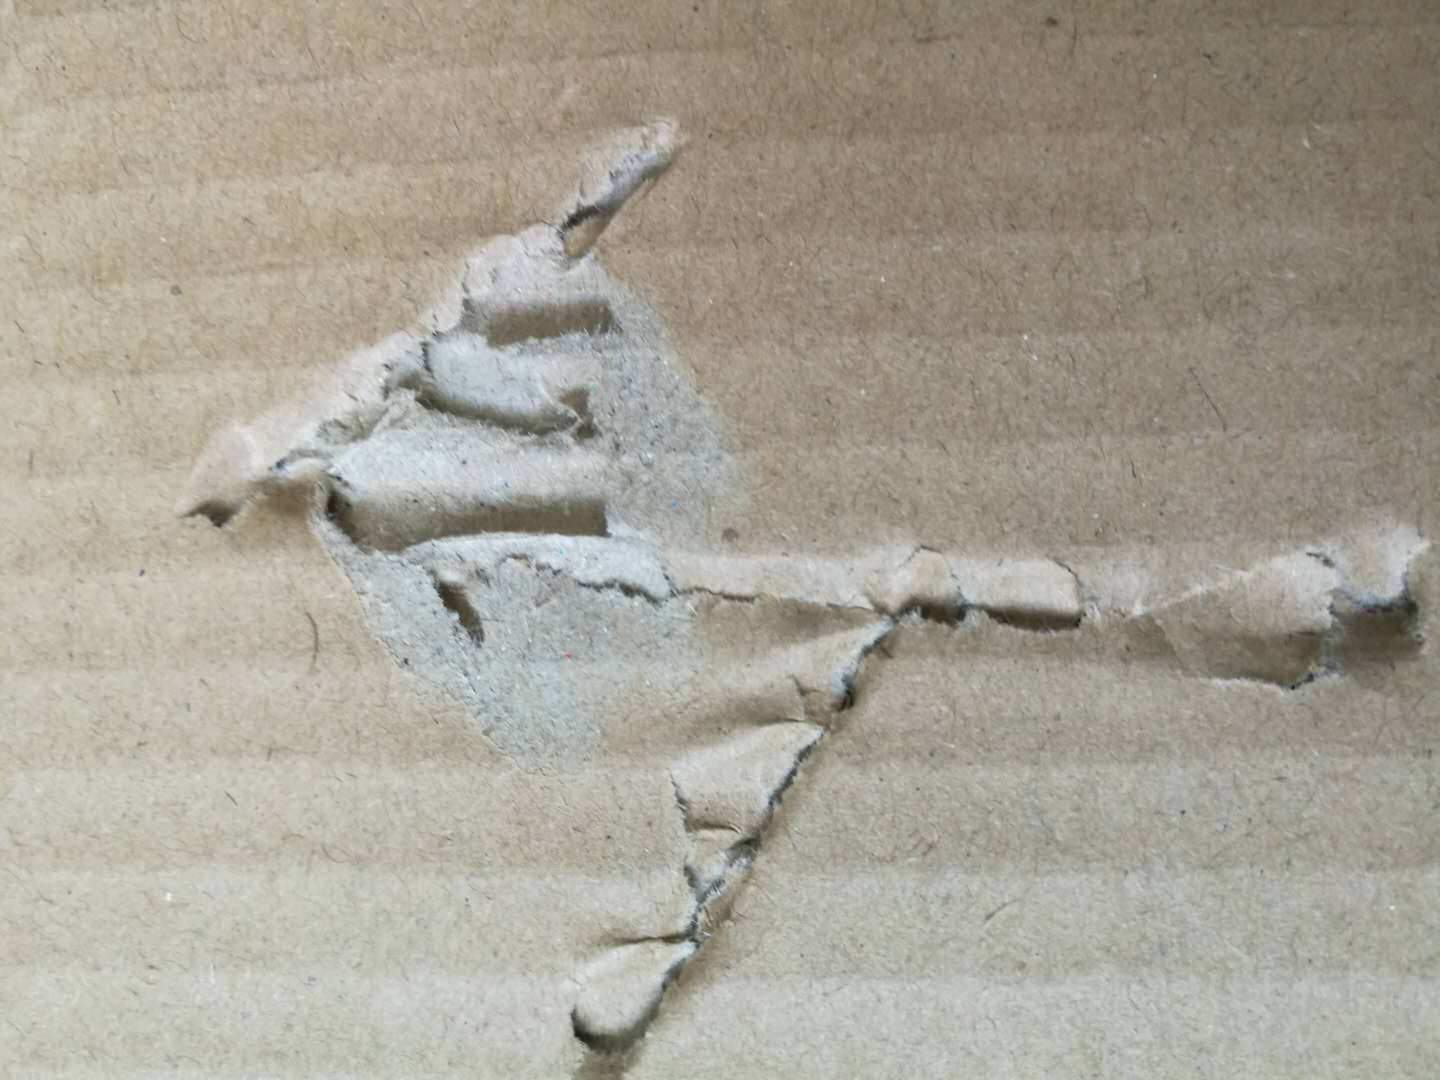defect: (139, 95, 745, 796), (524, 589, 937, 1080), (667, 493, 1440, 731)
